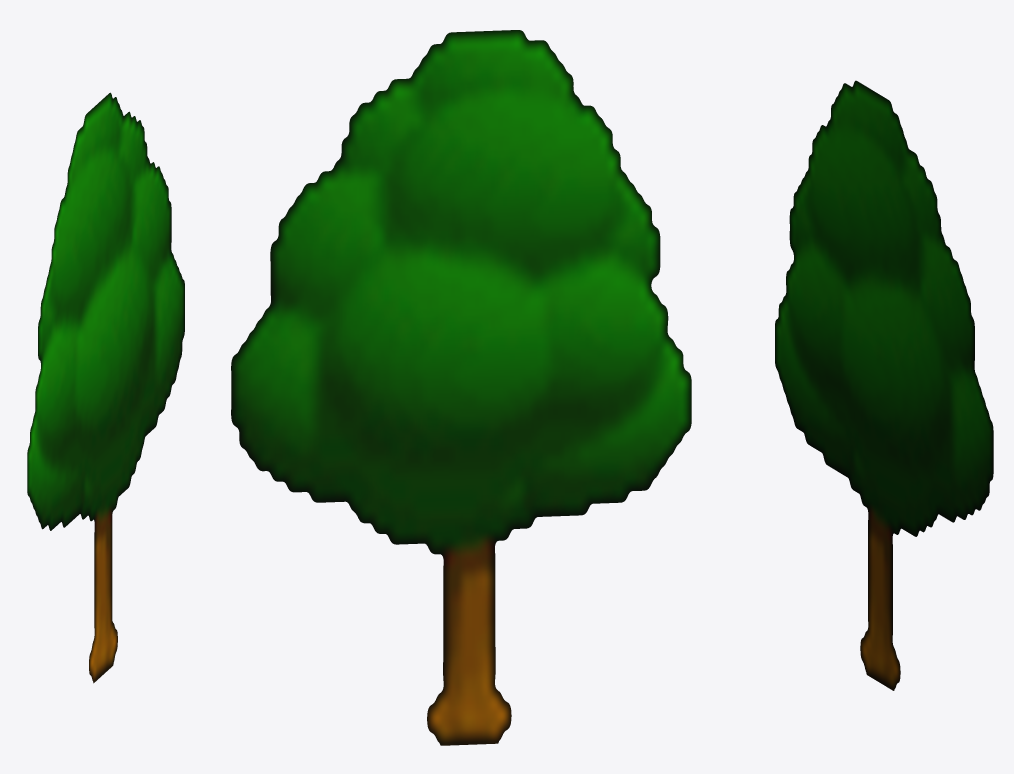
Rendered from Tree.FBX.
3 renders of one model, left to right at view 1: azimuth 30°, elevation 25°; view 2: azimuth 150°, elevation 25°; view 3: azimuth 270°, elevation 25°, orthographic. The views are drawn at different scales.
Parts seen in each view (by area): view 1: Plane002; view 2: Plane002; view 3: Plane002.
Boxes of the visible parts, x1,y1,x2,y2 form: Plane002: [27, 92, 184, 683]; Plane002: [231, 30, 691, 745]; Plane002: [775, 80, 993, 690].
Size of the model in its own units: 2.27 by 4.33 by 1.59.
